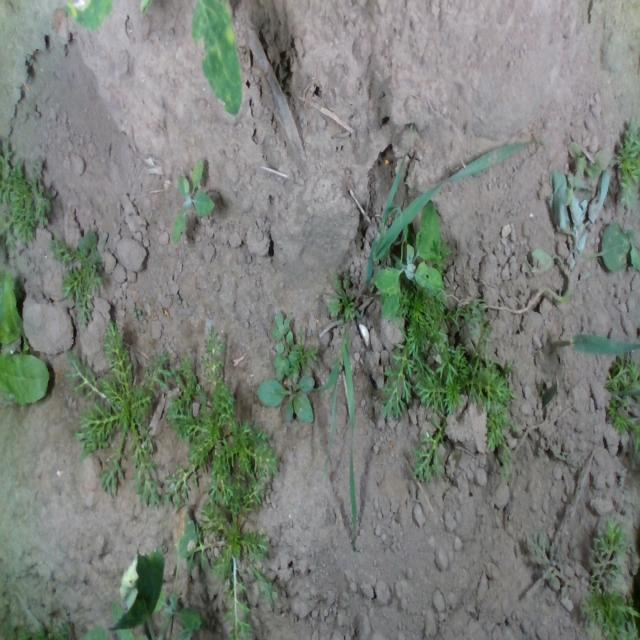weed: (170, 156, 214, 246)
